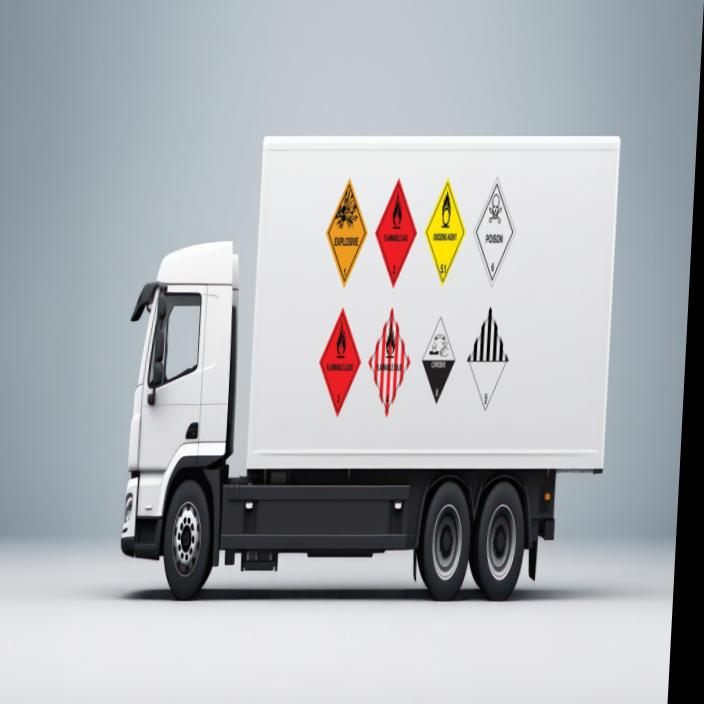bathroom sign: (326, 182, 369, 286)
bench: (374, 183, 419, 288)
can and bottle trash cans: (318, 312, 363, 415)
chair: (364, 306, 414, 417)
defibrillator: (422, 181, 470, 286)
door: (470, 176, 520, 290)
elevator buttons: (419, 315, 458, 405)
elevator doors: (465, 306, 512, 412)
